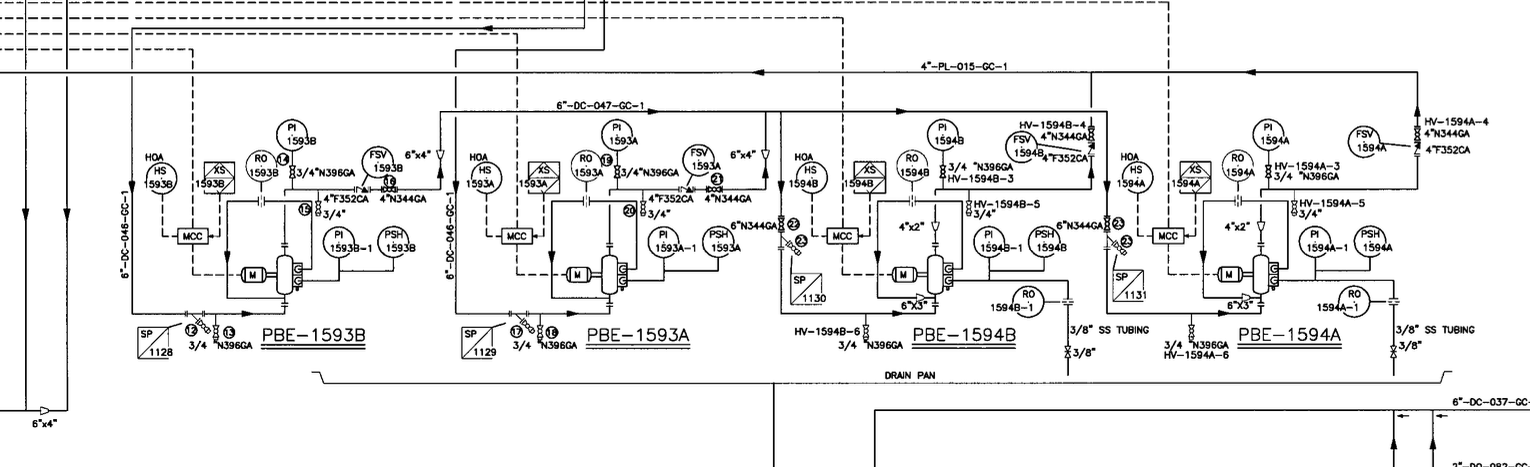Instrument-offset: (985, 282, 1051, 325), (974, 222, 1026, 264), (645, 223, 698, 263), (319, 224, 373, 263), (784, 157, 835, 198), (1215, 146, 1260, 191), (269, 111, 318, 152), (1298, 222, 1349, 261), (1250, 114, 1299, 154), (354, 145, 408, 181), (1352, 222, 1401, 261), (375, 222, 421, 263), (461, 159, 508, 199), (701, 221, 742, 262), (922, 116, 968, 152), (567, 141, 606, 183), (675, 143, 722, 177), (241, 143, 279, 185), (140, 164, 182, 201), (1345, 126, 1392, 159), (600, 116, 641, 153), (893, 146, 932, 184), (1112, 162, 1156, 194)
Instrument-square-offset: (195, 156, 239, 200), (844, 158, 891, 199), (519, 158, 564, 197)
